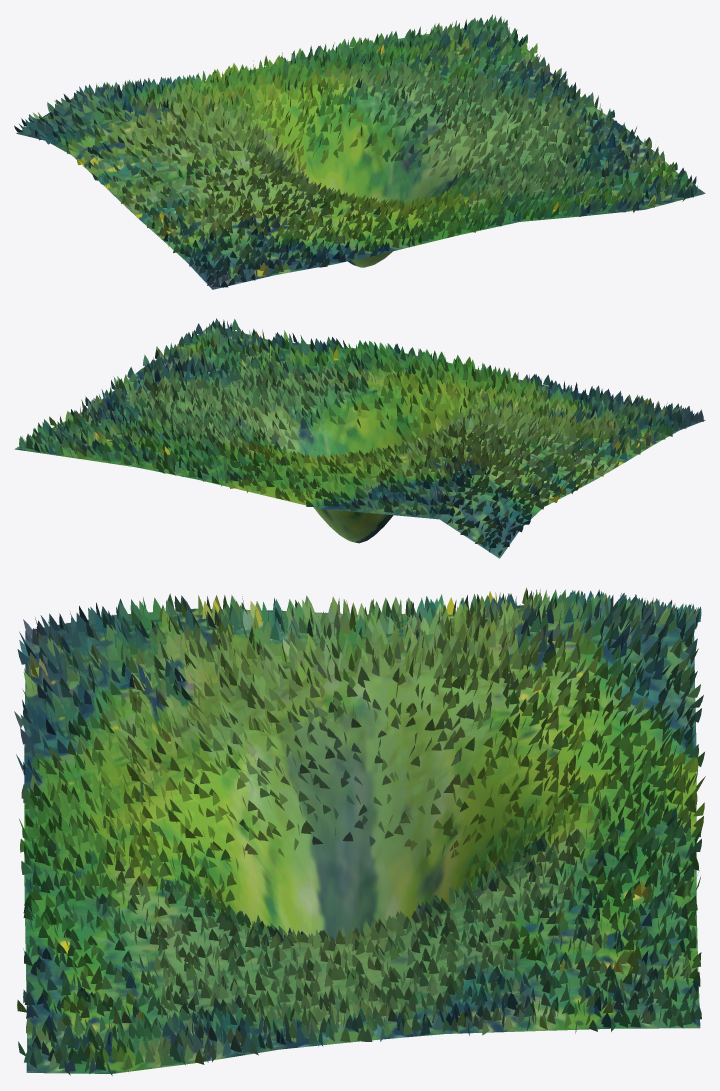
Rendered from meadow.glb.
3 renders of one model, top to bottom at view 1: azimuth 30°, elevation 25°; view 2: azimuth 150°, elevation 25°; view 3: azimuth 270°, elevation 25°, orthographic. The views are drawn at different scales.
Visible parts, largest first — view 1: Grass_Blades, Grass_Ground; view 2: Grass_Blades, Grass_Ground; view 3: Grass_Blades, Grass_Ground.
Part boxes in pixels (x1,y1,x2,y2): Grass_Blades: (14,14,697,287); Grass_Ground: (16,23,705,289); Grass_Blades: (19,318,703,556); Grass_Ground: (14,325,705,558); Grass_Blades: (14,587,705,1075); Grass_Ground: (24,605,700,1073).
Bounding box in the file's own units: 21.9 × 6.73 × 15.74.
2 materials, 2 textured.
